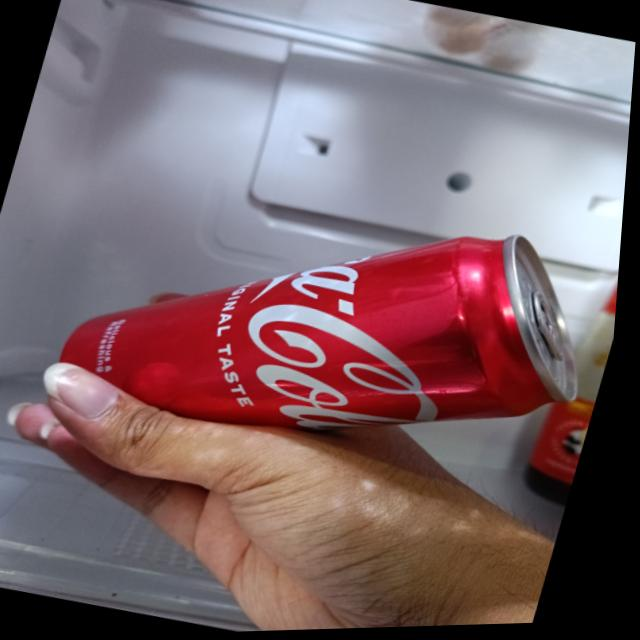coke: (45, 146, 627, 523)
